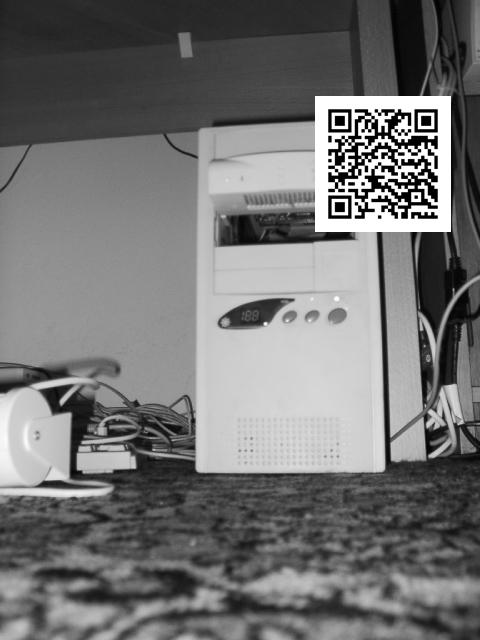qr_code: (316, 96, 449, 234)
